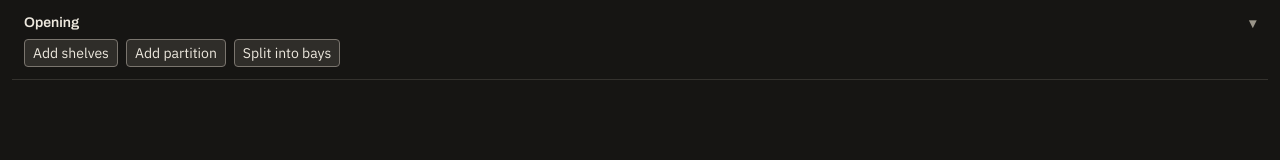
it: the Divide step › says why under the field and records nothing for 1 bay
The width and height of the screenshot is (1280, 160).
Click the button "Split into bays" at [287, 53], box [234,39,340,67]
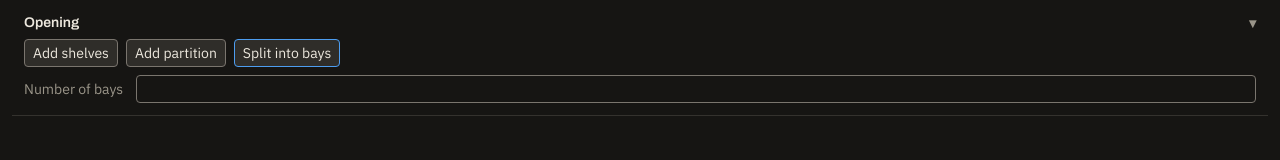
Type "1" into the field labelled "Number of bays" at [696, 89], box [136,75,1256,103]
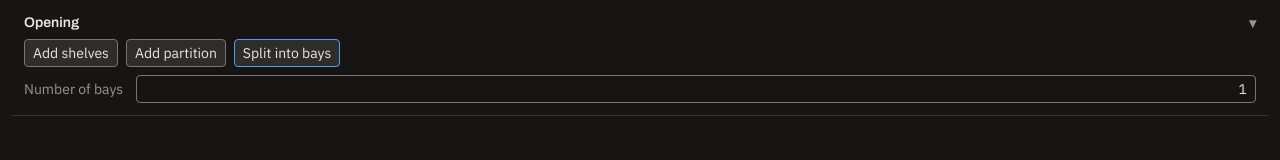
Leave the field labelled "Number of bays", box [136,75,1256,103]
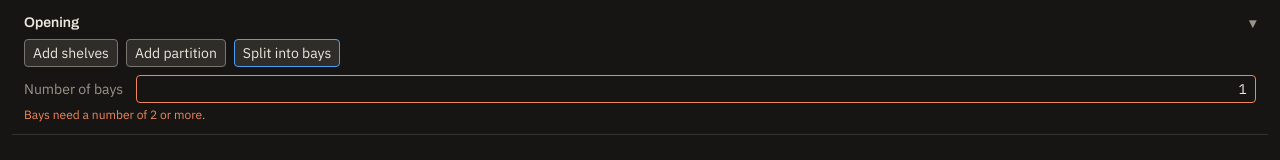
Check: the text "Bays need a number of 2 or more." is shown, box [24,107,205,122]
